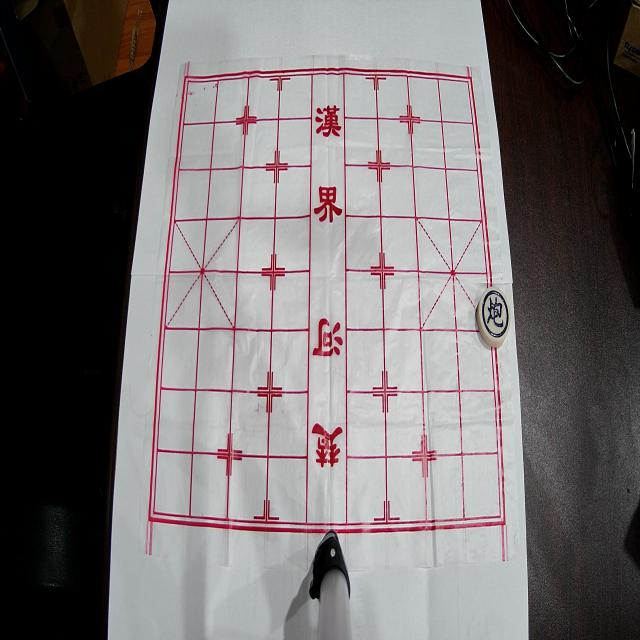black-cannon: (477, 287, 511, 347)
